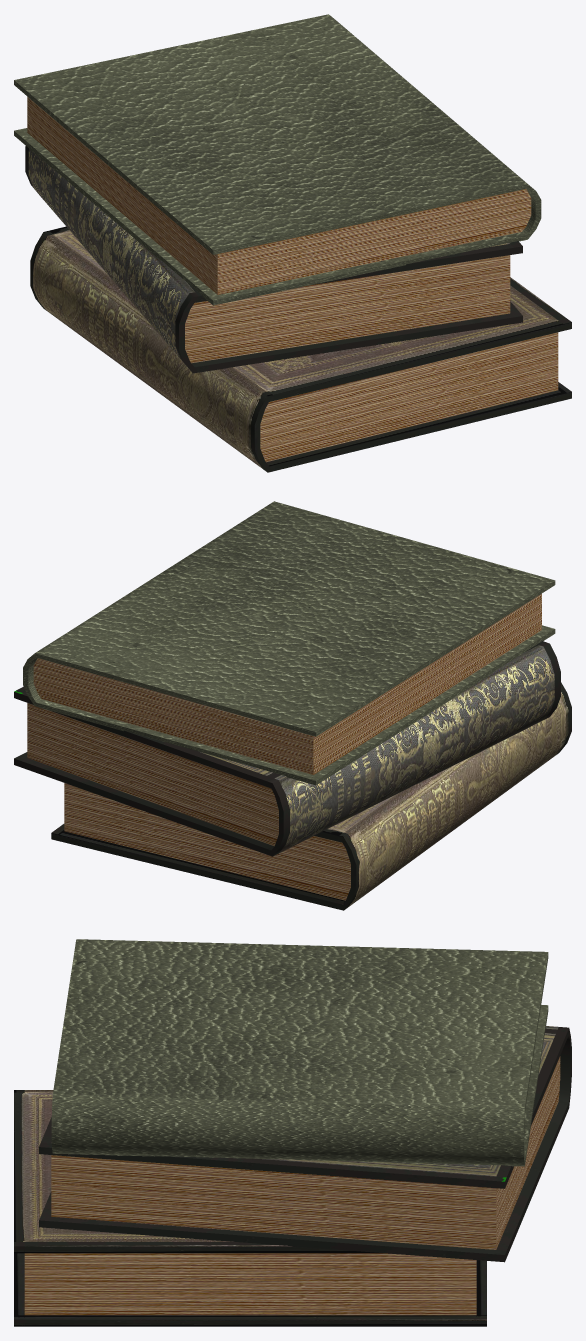
Rendered from 1book.glb.
The picture shows the model from 3 angles, top to bottom: view 1: azimuth 30°, elevation 25°; view 2: azimuth 150°, elevation 25°; view 3: azimuth 270°, elevation 25°; orthographic projection. The views are drawn at different scales.
Visible parts, largest first — view 1: Cube.001_0, Cube.002, Cube.003, Cube.001_1; view 2: Cube.001_0, Cube.003, Cube.002, Cube.001_1; view 3: Cube.001_0, Cube.003, Cube.002.
Part boxes in pixels (left/top/right/bottom): Cube.001_0: left=14, top=14, right=541, bottom=305; Cube.002: left=30, top=226, right=571, bottom=472; Cube.003: left=25, top=146, right=522, bottom=373; Cube.001_1: left=27, top=96, right=531, bottom=294; Cube.001_0: left=23, top=501, right=555, bottom=785; Cube.003: left=14, top=641, right=560, bottom=856; Cube.002: left=51, top=682, right=571, bottom=910; Cube.001_1: left=33, top=593, right=541, bottom=774; Cube.001_0: left=51, top=939, right=548, bottom=1166; Cube.003: left=39, top=1026, right=571, bottom=1262; Cube.002: left=14, top=1090, right=486, bottom=1326.
Bounding box in the file's own units: 0.3485 × 0.1816 × 0.4207.
Materials: 4 (4 with a texture image).
